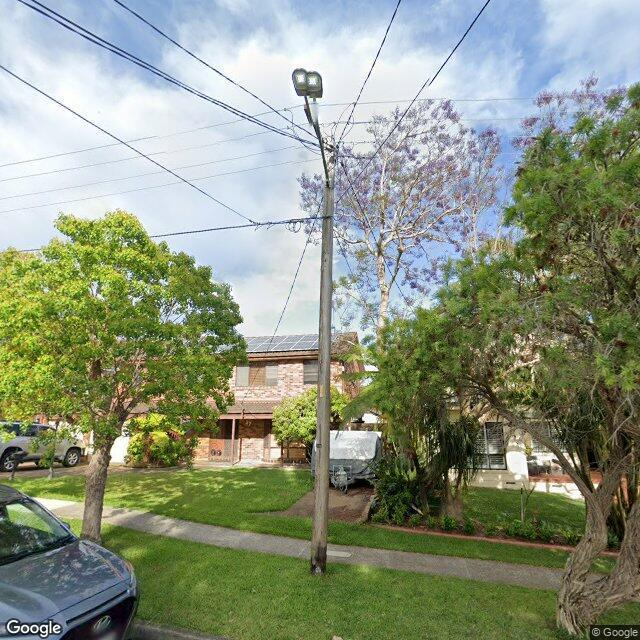streetlight: (292, 67, 331, 190)
timber-pole: (310, 155, 336, 574)
